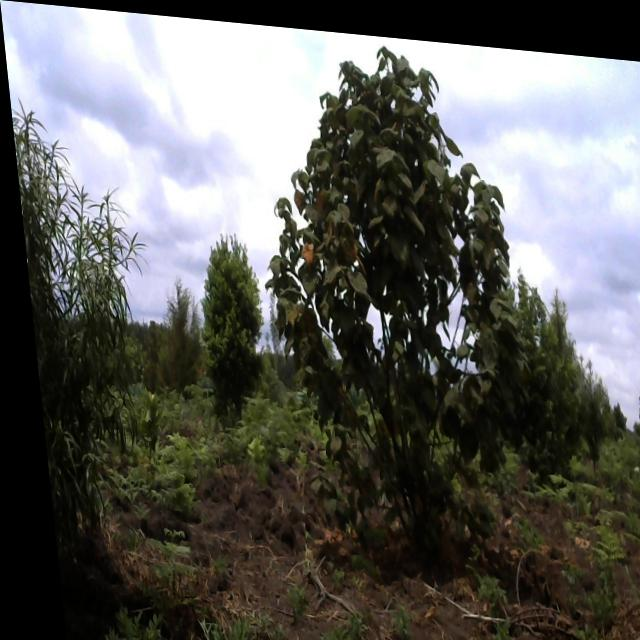other: (245, 38, 557, 640)
